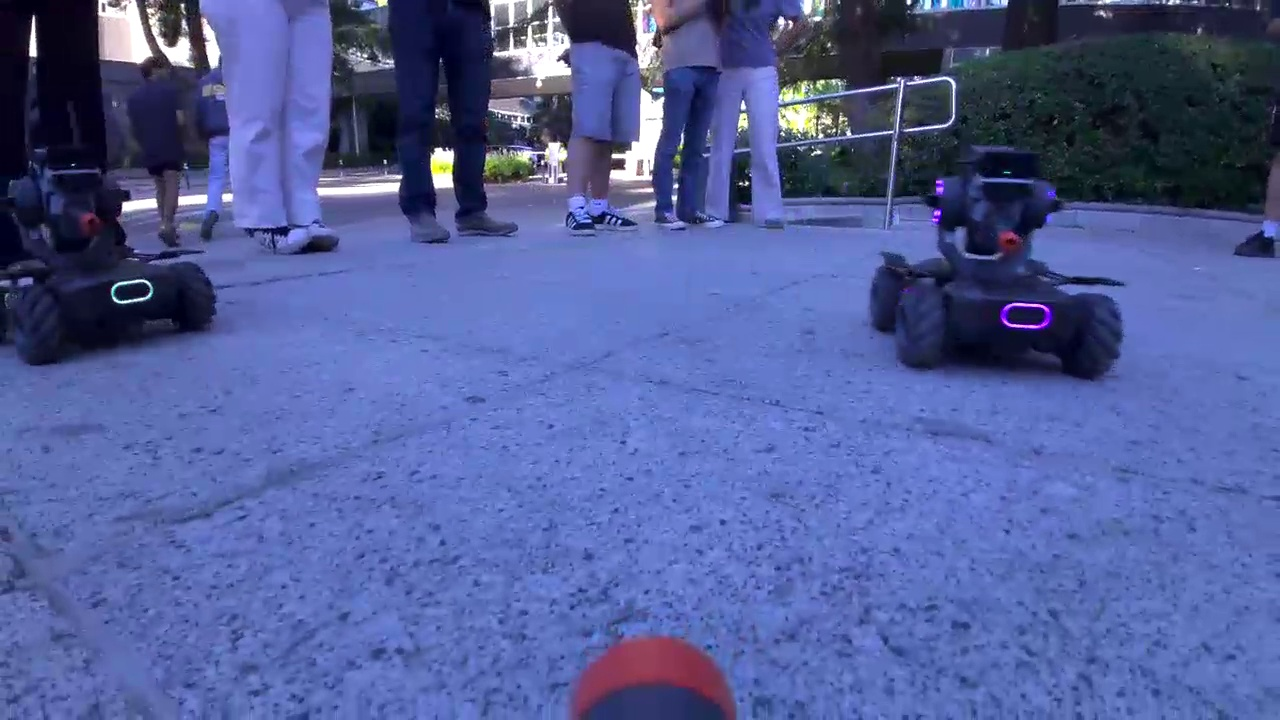robot: (869, 143, 1128, 382), (1, 142, 218, 364)
